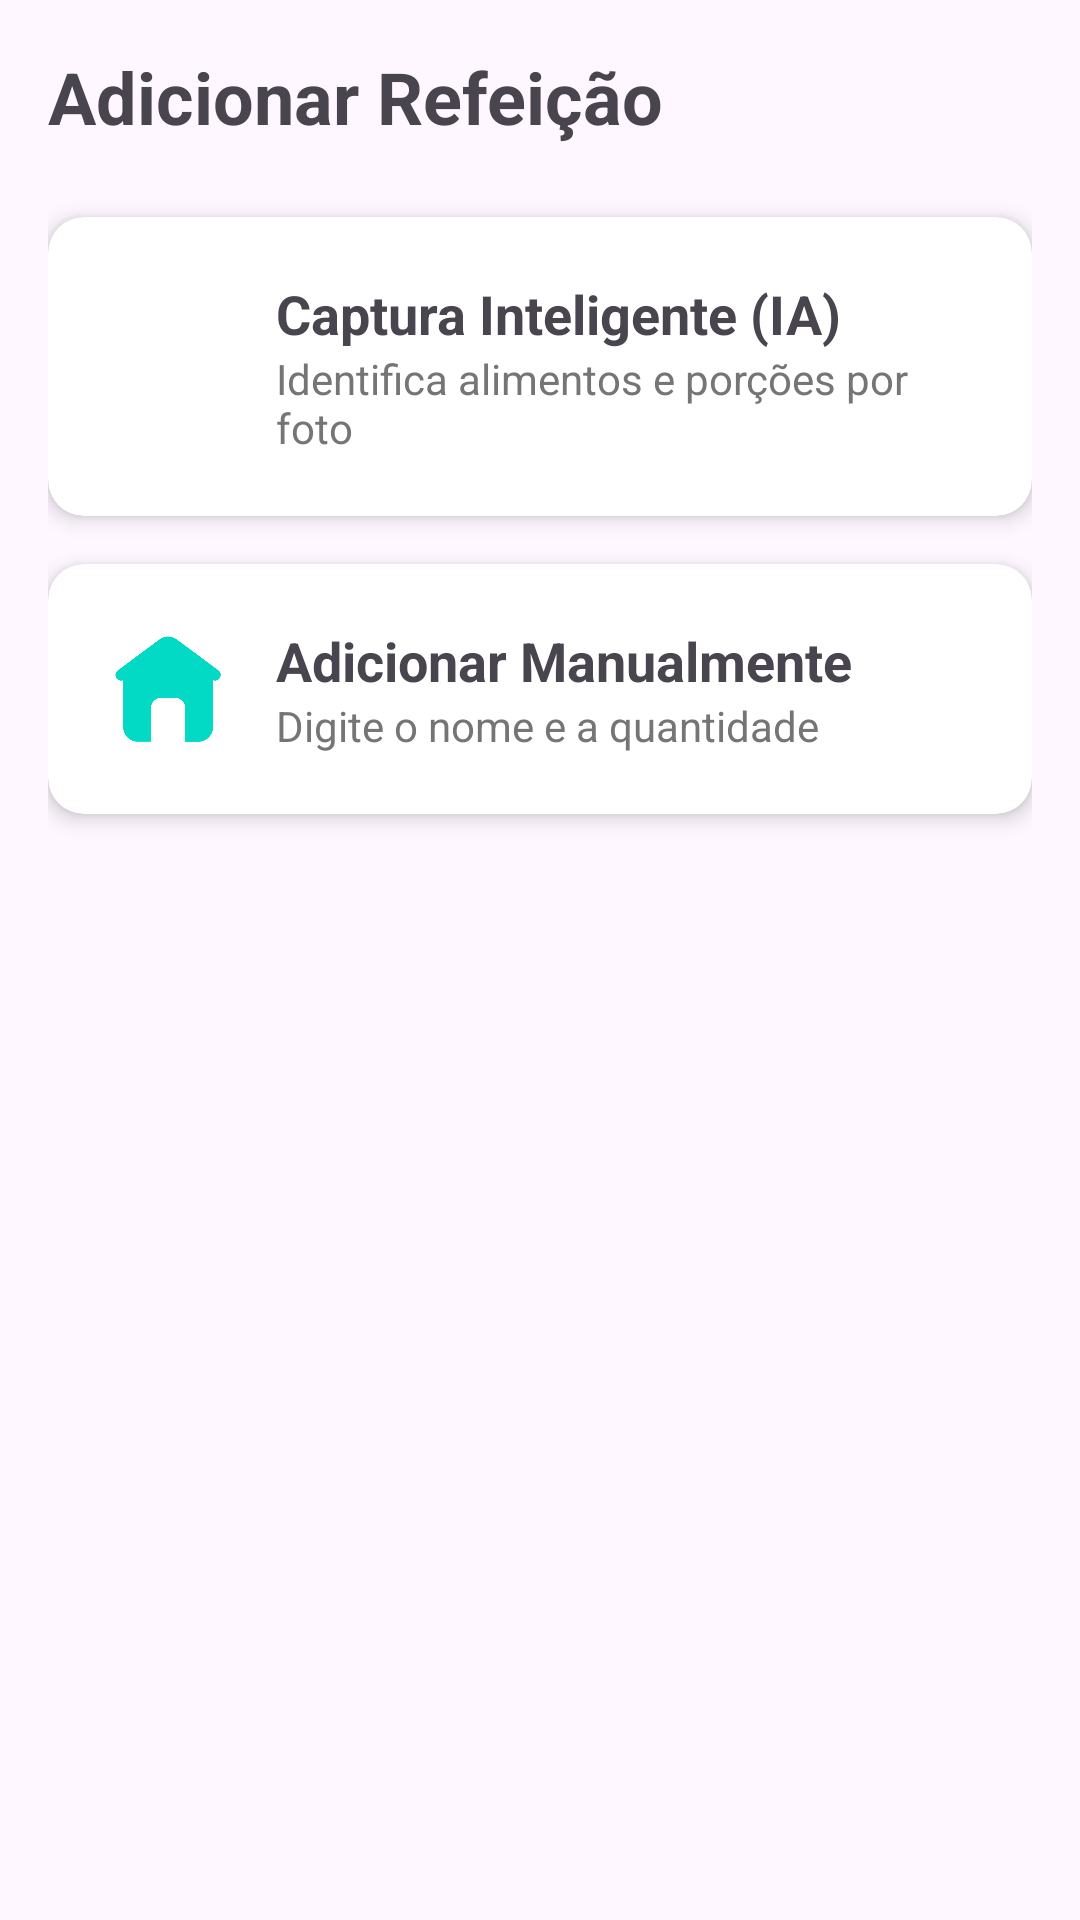

Icons on this 1080 x 1920 Android screen, each with the point to tap as (x,y):
Início: (168,689)
